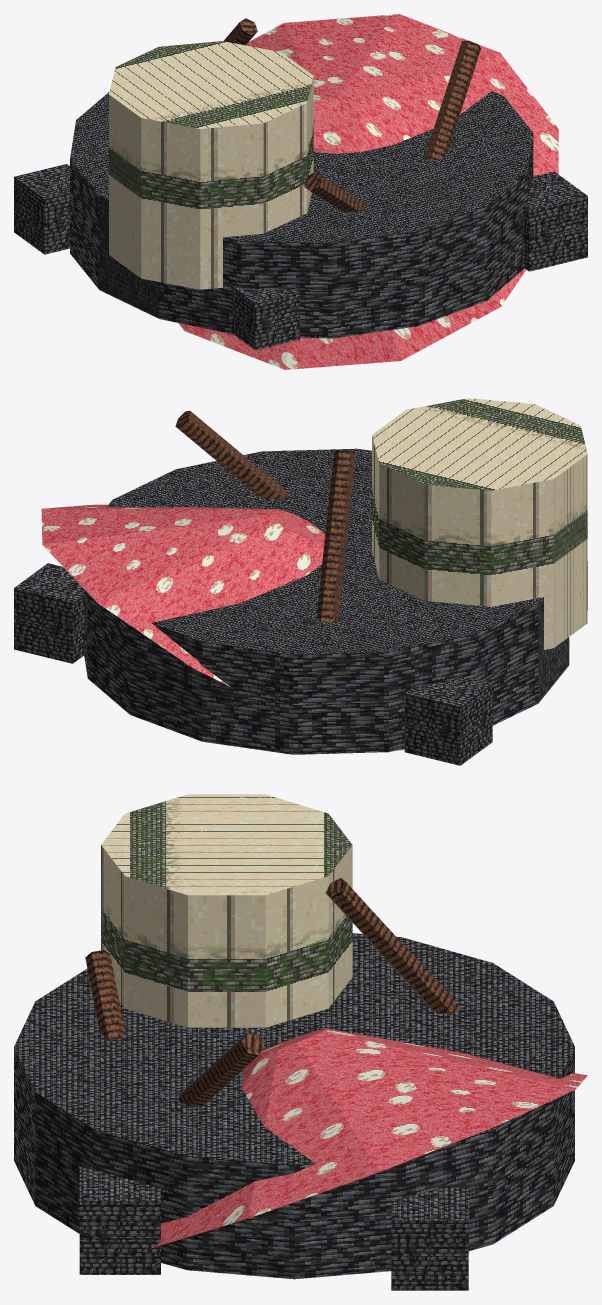
The model's file is casa_pino_ruina.glb.
3 views of the same model, one above another, from view 1: azimuth 30°, elevation 25°; view 2: azimuth 150°, elevation 25°; view 3: azimuth 270°, elevation 25° (orthographic). The views are drawn at different scales.
Visible parts, largest first — view 1: Cylinder, Cylinder.001, Cone, Cube.001, Cube, Cube.002, Cylinder.003, Cylinder.004, Cylinder.002; view 2: Cylinder, Cylinder.001, Cone, Cube, Cube.003, Cylinder.002, Cylinder.003; view 3: Cylinder, Cylinder.001, Cone, Cube.001, Cube.003, Cylinder.002, Cylinder.003, Cylinder.004.
Part boxes in pixels (bbox=[...]): Cylinder: bbox=[70, 90, 533, 338]; Cylinder.001: bbox=[109, 41, 313, 289]; Cone: bbox=[178, 14, 558, 369]; Cube.001: bbox=[524, 171, 587, 271]; Cube: bbox=[14, 164, 69, 254]; Cube.002: bbox=[232, 287, 299, 350]; Cylinder.003: bbox=[424, 40, 480, 160]; Cylinder.004: bbox=[304, 172, 366, 212]; Cylinder.002: bbox=[223, 18, 257, 45]; Cylinder: bbox=[83, 448, 569, 754]; Cylinder.001: bbox=[372, 398, 587, 649]; Cone: bbox=[41, 504, 404, 750]; Cube: bbox=[404, 677, 492, 765]; Cube.003: bbox=[14, 563, 84, 663]; Cylinder.002: bbox=[316, 450, 355, 622]; Cylinder.003: bbox=[175, 411, 289, 499]; Cylinder: bbox=[14, 933, 574, 1279]; Cylinder.001: bbox=[101, 794, 352, 1027]; Cone: bbox=[150, 1028, 587, 1248]; Cube.001: bbox=[79, 1167, 160, 1274]; Cube.003: bbox=[391, 1187, 468, 1290]; Cylinder.002: bbox=[325, 877, 461, 1013]; Cylinder.003: bbox=[177, 1033, 264, 1106]; Cylinder.004: bbox=[85, 950, 125, 1039].
Bounding box in the file's own units: 3.19 × 2 × 2.97.
4 materials, 4 textured.
